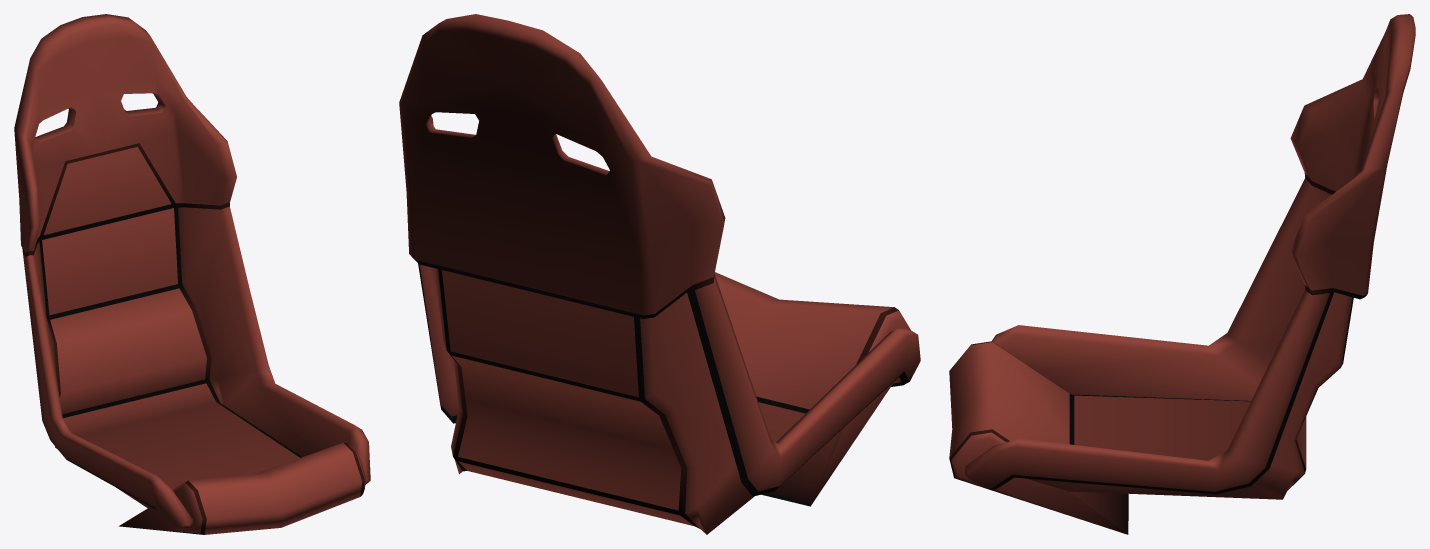
File: F40_Seat_Trim.fbx
3 views of the same model, side by side, from view 1: azimuth 30°, elevation 25°; view 2: azimuth 150°, elevation 25°; view 3: azimuth 270°, elevation 25° (orthographic). The views are drawn at different scales.
Parts seen in each view (by area): view 1: F40_Seat_Trim; view 2: F40_Seat_Trim; view 3: F40_Seat_Trim.
Boxes of the visible parts, <box> form: F40_Seat_Trim: <box>14,14,370,534</box>; F40_Seat_Trim: <box>399,14,920,534</box>; F40_Seat_Trim: <box>949,14,1415,534</box>.
Bounding box in the file's own units: 44.13 × 76.6 × 70.68.
